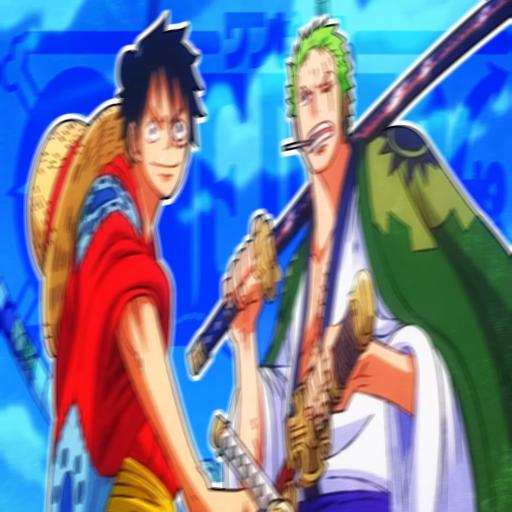Luffy: (7, 11, 240, 512)
Zoro: (246, 0, 482, 512)
